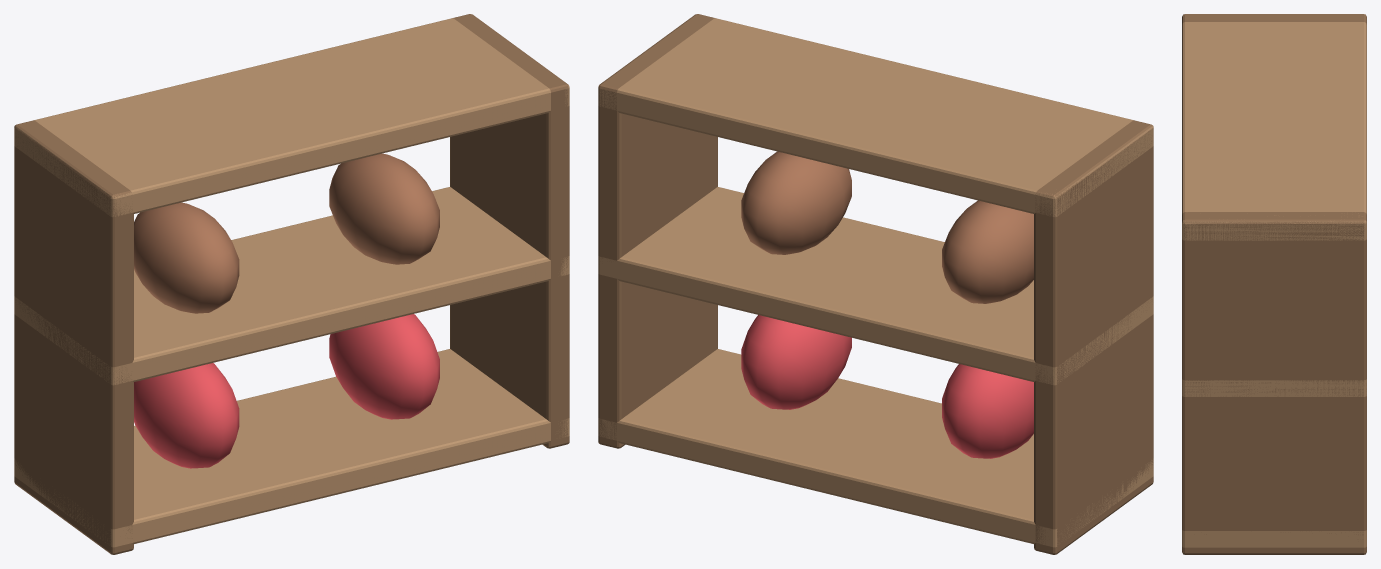
File: ShoeRack.fbx
The picture shows the model from 3 angles, left to right: view 1: azimuth 30°, elevation 25°; view 2: azimuth 150°, elevation 25°; view 3: azimuth 270°, elevation 25°; orthographic projection. The views are drawn at different scales.
Parts seen in each view (by area): view 1: ShoeRack; view 2: ShoeRack; view 3: ShoeRack.
Boxes of the visible parts, x1,y1,x2,y2 form: ShoeRack: [14, 14, 569, 554]; ShoeRack: [598, 14, 1153, 554]; ShoeRack: [1182, 14, 1366, 554].
Bounding box in the file's own units: 80 × 60 × 30.
